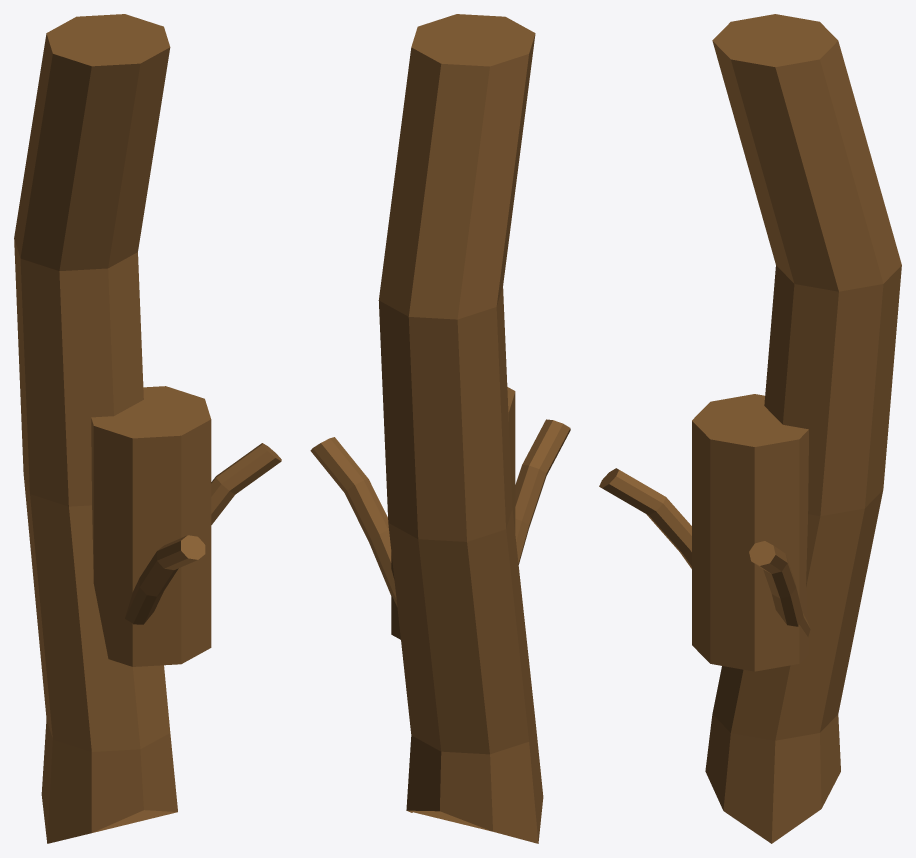
The model's file is tree_parts.glb.
3 renders of one model, left to right at view 1: azimuth 30°, elevation 25°; view 2: azimuth 150°, elevation 25°; view 3: azimuth 270°, elevation 25°, orthographic. The views are drawn at different scales.
Visible parts, largest first — view 1: Icosphere.001, Icosphere.002; view 2: Icosphere.001, Icosphere.002; view 3: Icosphere.001, Icosphere.002.
Part boxes in pixels (x1=…): Icosphere.001: x1=14, y1=14, x2=281, y2=843; Icosphere.002: x1=91, y1=386, x2=211, y2=666; Icosphere.001: x1=310, y1=14, x2=570, y2=843; Icosphere.002: x1=391, y1=387, x2=515, y2=639; Icosphere.001: x1=599, y1=14, x2=901, y2=843; Icosphere.002: x1=692, y1=394, x2=808, y2=671.
Bounding box in the file's own units: 1.22 × 4.01 × 1.42.
